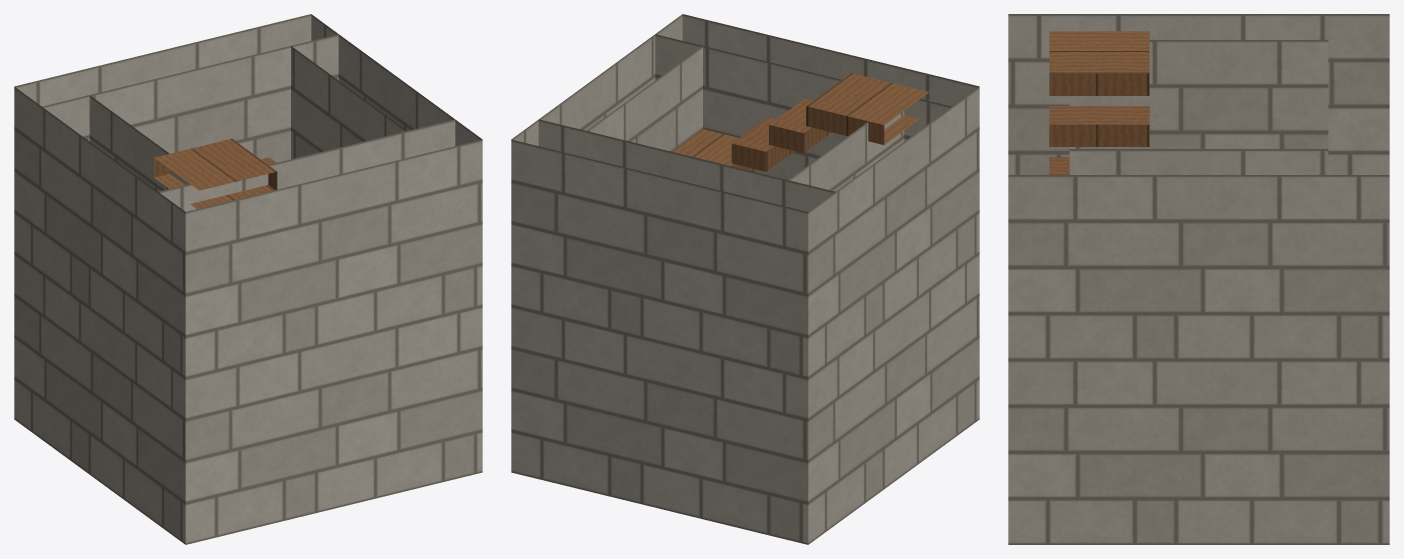
Rendered from Tower_Stair.fbx.
3 views of the same model, side by side, from view 1: azimuth 30°, elevation 25°; view 2: azimuth 150°, elevation 25°; view 3: azimuth 270°, elevation 25° (orthographic). The views are drawn at different scales.
Visible parts, largest first — view 1: Tower_Stair; view 2: Tower_Stair; view 3: Tower_Stair.
Boxes of the visible parts, x1,y1,x2,y2 form: Tower_Stair: (14,14,482,544); Tower_Stair: (511,14,979,544); Tower_Stair: (1008,14,1389,544).
Bounding box in the file's own units: 2.8 × 3 × 2.8.
Materials: 2 (2 with a texture image).
